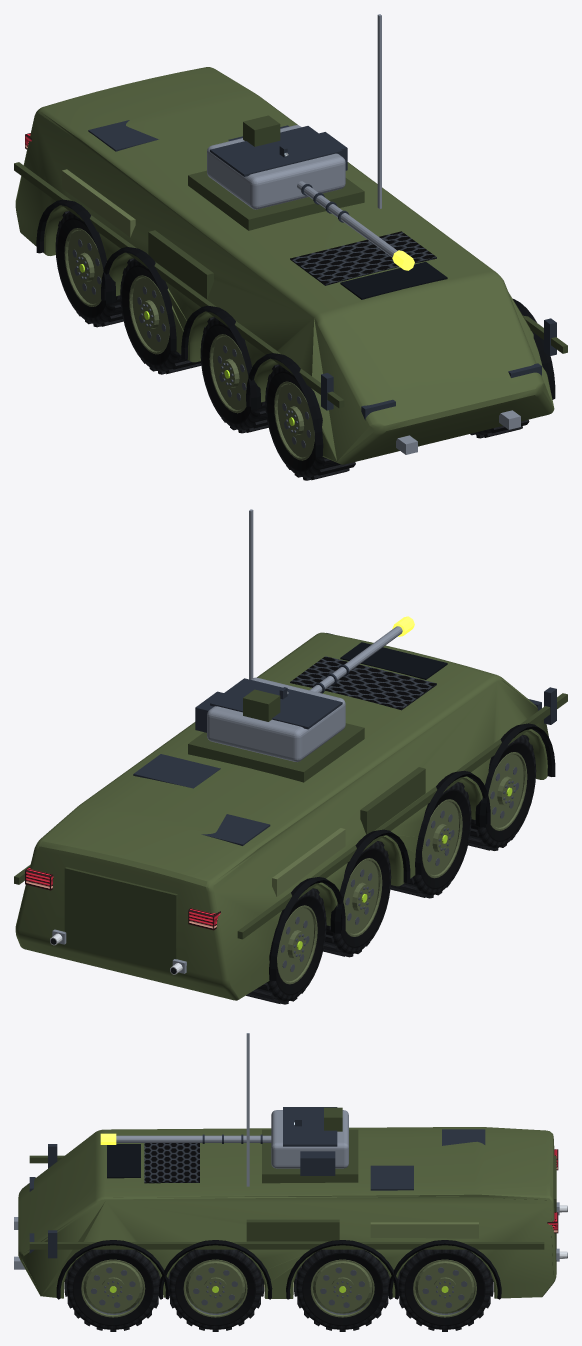
Rendered from truongson_av8.glb.
3 views of the same model, one above another, from view 1: azimuth 30°, elevation 25°; view 2: azimuth 150°, elevation 25°; view 3: azimuth 270°, elevation 25° (orthographic). The views are drawn at different scales.
Parts seen in each view (by area): view 1: chassis, gun, wheel_1R, wheel_3R, wheel_2R, wheel_4R; view 2: chassis, gun, wheel_4R, wheel_2R, wheel_1R, wheel_3R; view 3: chassis, gun, wheel_1L, wheel_2L, wheel_4L, wheel_3L.
Part boxes in pixels (x1,y1,x2,y2): chassis: (14, 14, 567, 464); gun: (207, 115, 414, 270); wheel_1R: (265, 364, 355, 480); wheel_3R: (120, 258, 201, 374); wheel_2R: (200, 317, 268, 433); wheel_4R: (55, 211, 123, 327); chassis: (14, 509, 567, 1000); gun: (195, 616, 414, 762); wheel_4R: (246, 888, 326, 1004); wheel_2R: (390, 782, 471, 898); wheel_1R: (468, 734, 536, 850); wheel_3R: (323, 841, 391, 957); chassis: (14, 1033, 567, 1299); gun: (100, 1107, 348, 1175); wheel_1L: (64, 1249, 160, 1331); wheel_2L: (168, 1249, 264, 1331); wheel_4L: (397, 1249, 493, 1331); wheel_3L: (294, 1249, 389, 1331).
Size of the model in its own units: 2.79 by 3.98 by 7.06.
Materials: 17 (4 with a texture image).
